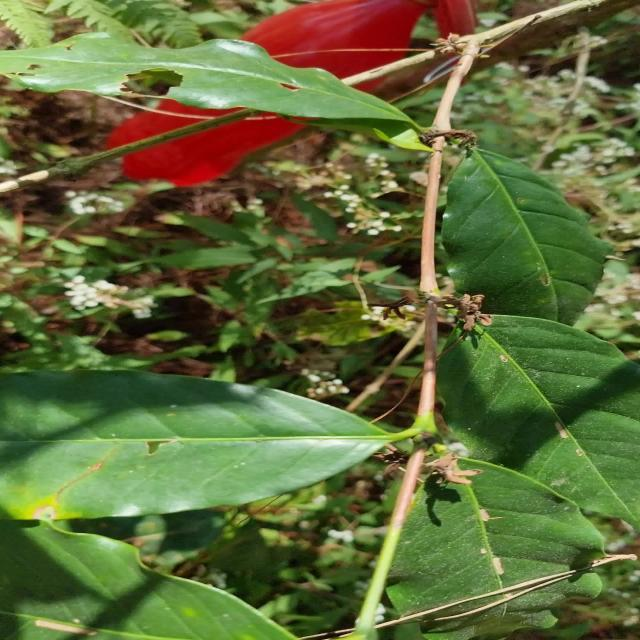leaves: (0, 367, 392, 519), (409, 282, 640, 534), (401, 138, 631, 354)
